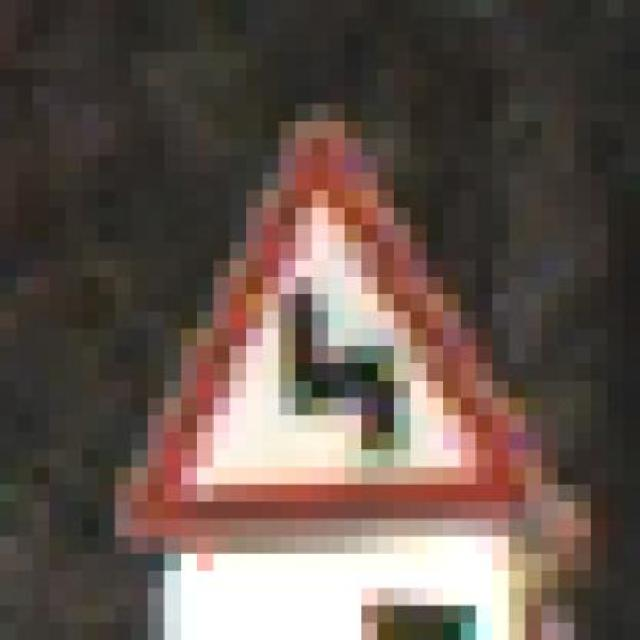Left Zig Zag Traffic: (115, 103, 558, 554)
